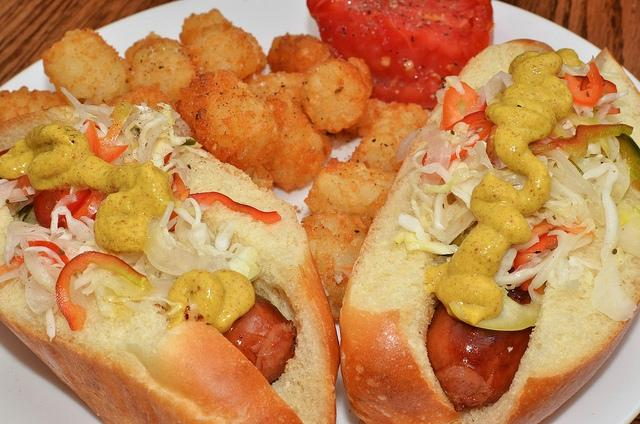bell pepper: (55, 251, 153, 330), (528, 123, 634, 158), (514, 230, 570, 294), (188, 192, 282, 224), (439, 81, 487, 131), (84, 121, 128, 163), (564, 60, 604, 106), (614, 134, 640, 192), (7, 186, 42, 216), (72, 191, 103, 223), (27, 241, 70, 264), (445, 110, 488, 132)
onion: (142, 220, 231, 276), (448, 287, 542, 331), (397, 124, 440, 163), (594, 158, 630, 204), (137, 120, 168, 164), (483, 70, 516, 106), (547, 176, 580, 210), (596, 89, 628, 121), (546, 166, 592, 186), (77, 104, 112, 128), (540, 153, 576, 176), (576, 200, 590, 222), (80, 216, 94, 232), (554, 146, 570, 160), (432, 230, 446, 242), (440, 130, 450, 139), (31, 236, 45, 241)
potato: (171, 67, 282, 171), (304, 212, 374, 324), (260, 89, 332, 194), (42, 29, 131, 104), (179, 9, 268, 78), (303, 158, 399, 218), (351, 100, 429, 171), (301, 58, 369, 134), (126, 34, 197, 101), (266, 32, 332, 78), (0, 86, 68, 125), (244, 70, 306, 102), (344, 98, 386, 136), (254, 162, 273, 180)
tomato: (307, 1, 493, 108), (56, 251, 150, 331), (168, 191, 282, 231), (84, 101, 134, 163), (443, 81, 487, 129), (564, 62, 603, 106), (514, 233, 558, 270), (34, 190, 70, 228), (72, 190, 104, 224), (28, 241, 69, 266), (468, 120, 494, 140)
